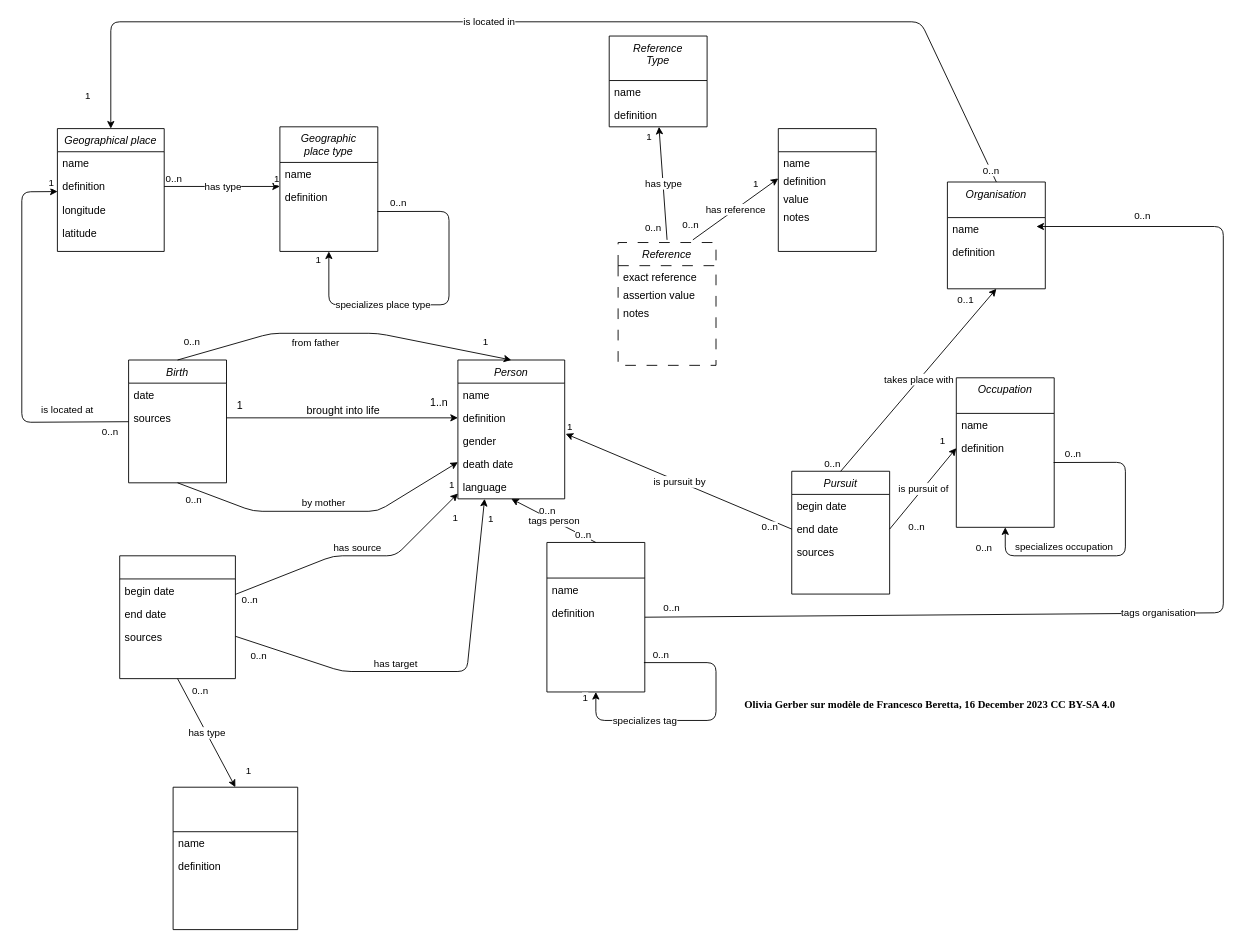
Image size: 1246x945. Some labels were removed from this diagram. Each missing label, with the box of its shape:
Document: (777, 128, 876, 251)
Persons' Relationship: (119, 555, 235, 679)
Persons' Relationship Type: (172, 786, 298, 930)
Tag: (546, 542, 645, 692)
